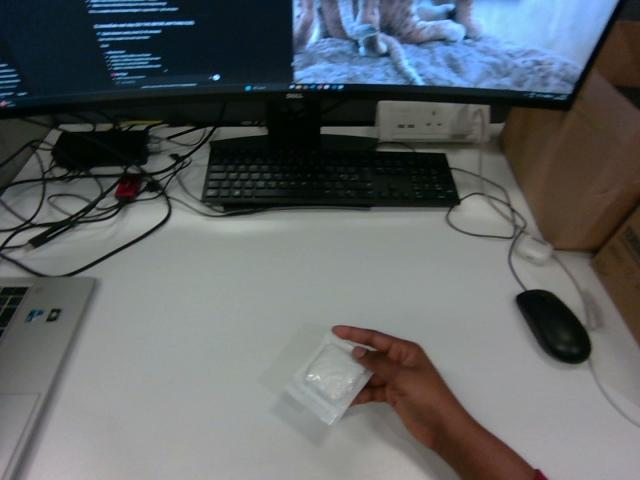gauze: (286, 334, 371, 424)
